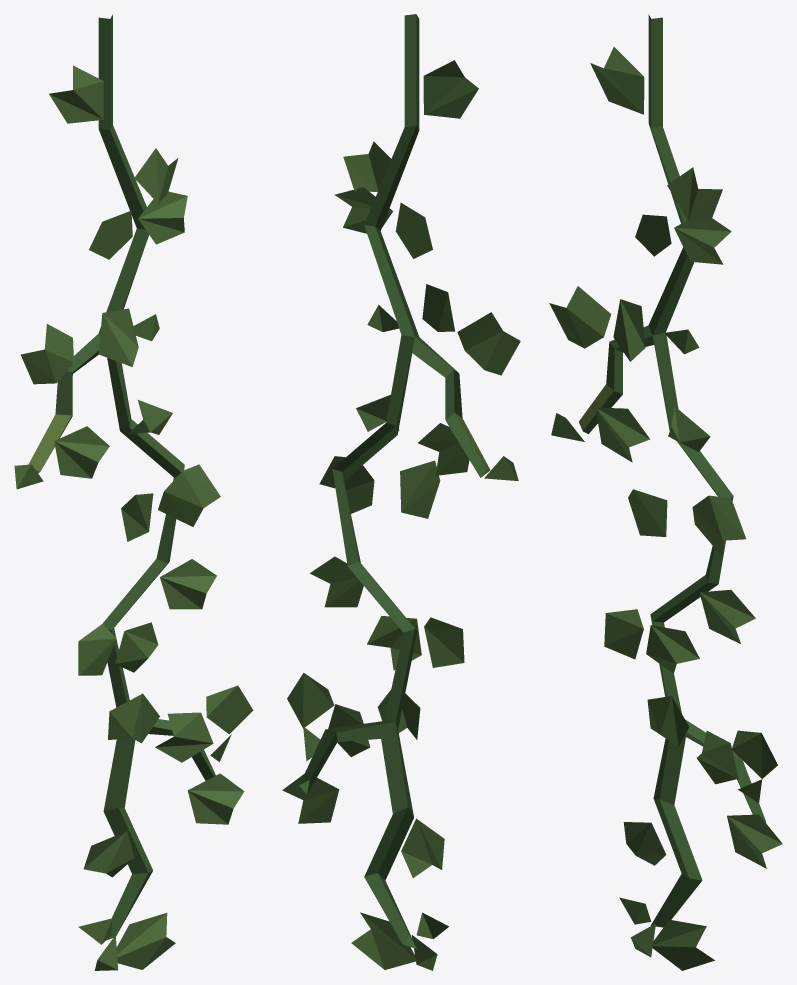
File: SM_Env_Vines_Wall_02.fbx
3 views of the same model, side by side, from view 1: azimuth 30°, elevation 25°; view 2: azimuth 150°, elevation 25°; view 3: azimuth 330°, elevation 25° (orthographic). The views are drawn at different scales.
Parts seen in each view (by area): view 1: SM_Env_Vines_Wall_02; view 2: SM_Env_Vines_Wall_02; view 3: SM_Env_Vines_Wall_02.
Part boxes in pixels (x1,y1,x2,y2): SM_Env_Vines_Wall_02: (14,14,253,970); SM_Env_Vines_Wall_02: (282,14,520,970); SM_Env_Vines_Wall_02: (549,14,782,970).
Size of the model in its own units: 0.00697 by 0.0273 by 0.00136.
Materials: 1 (1 with a texture image).
